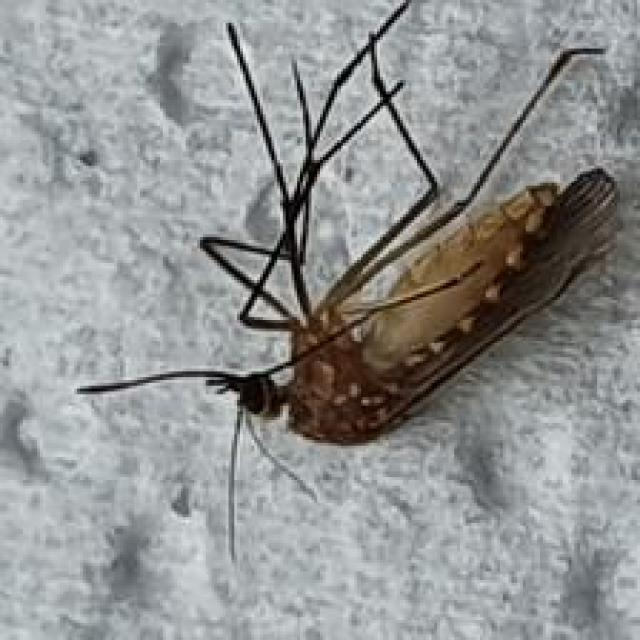Culex: (74, 0, 623, 566)
